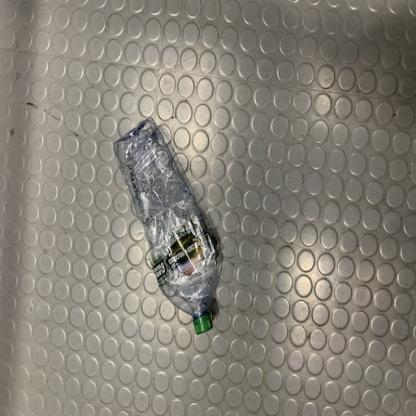trash: (111, 118, 221, 338)
